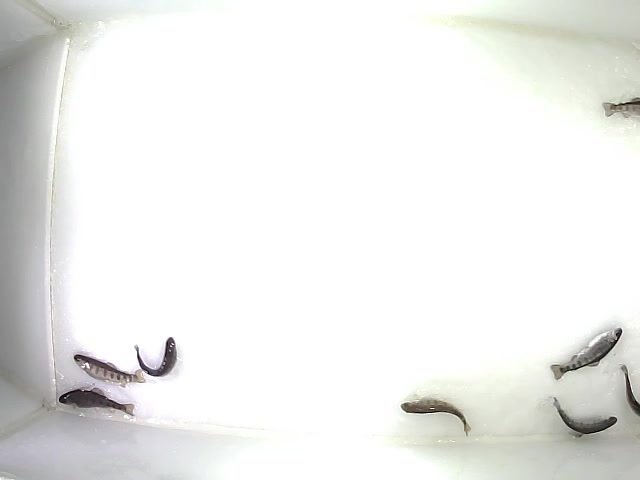fish: (549, 326, 623, 380), (399, 396, 471, 437), (72, 353, 148, 389), (551, 396, 618, 436), (58, 386, 136, 418), (132, 336, 179, 378)
